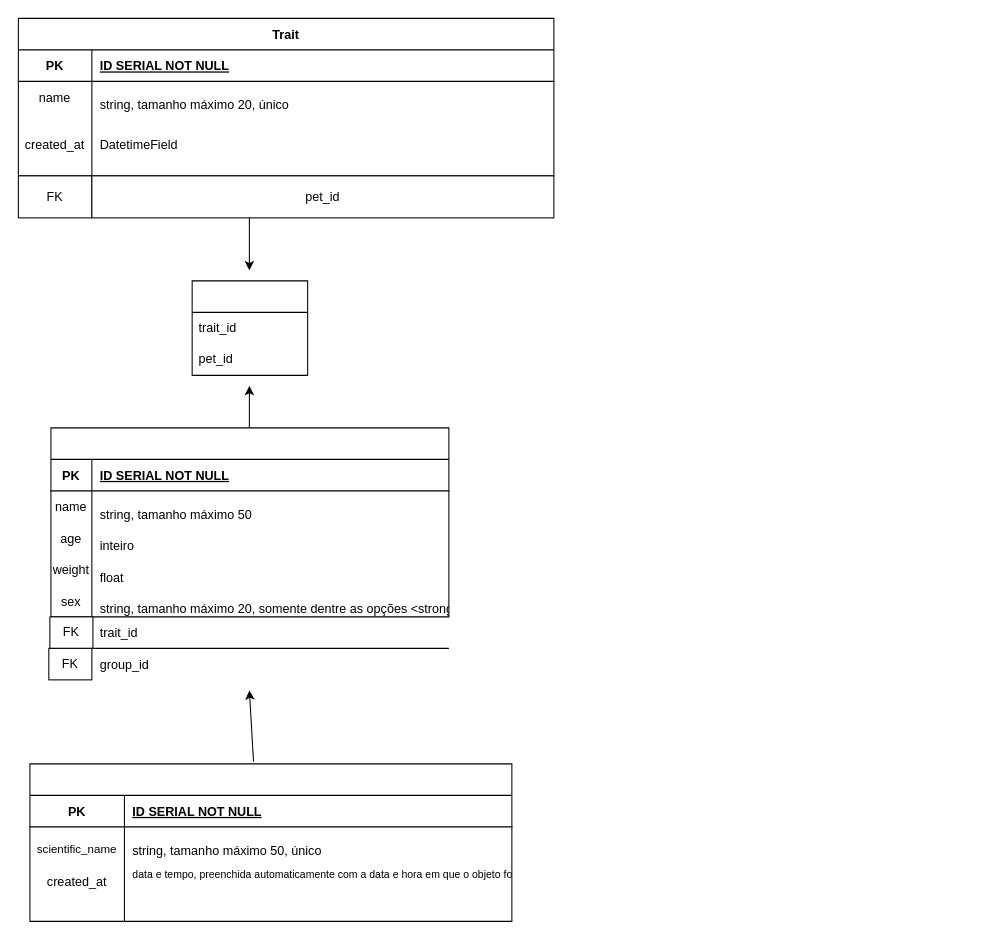
This 993x940 diagram has some shape labels left out. Each missing label, with the box of its shape:
group: (29, 763, 512, 921)
Pet: (50, 427, 449, 617)
pet_trait: (191, 280, 308, 375)
